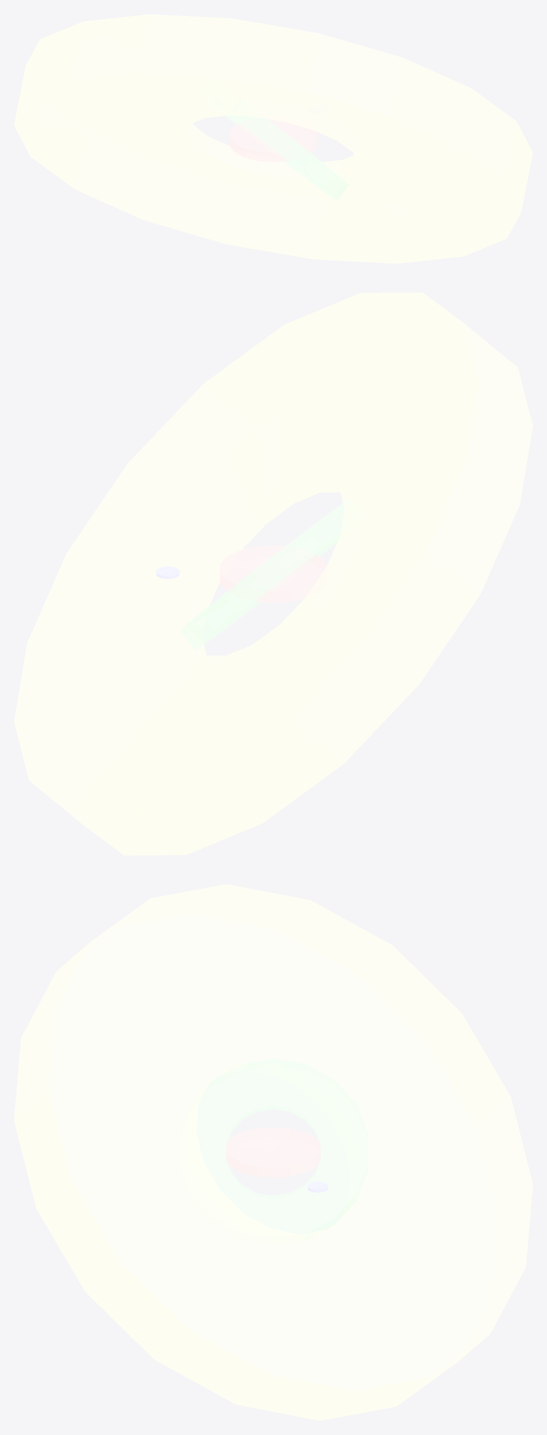
The picture shows the model from 3 angles, top to bottom: view 1: azimuth 30°, elevation 25°; view 2: azimuth 150°, elevation 25°; view 3: azimuth 270°, elevation 25°; orthographic projection. The views are drawn at different scales.
Visible parts, largest first — view 1: disk_3, disk_2, disk_1; view 2: disk_3, disk_2, disk_1; view 3: disk_3, disk_2, disk_1.
Part boxes in pixels (x1=…): disk_3: x1=14, y1=14, x2=532, y2=263; disk_2: x1=199, y1=78, x2=348, y2=200; disk_1: x1=230, y1=116, x2=316, y2=162; disk_3: x1=14, y1=292, x2=532, y2=855; disk_2: x1=180, y1=498, x2=365, y2=649; disk_1: x1=220, y1=545, x2=326, y2=602; disk_3: x1=14, y1=884, x2=532, y2=1420; disk_2: x1=179, y1=1058, x2=367, y2=1245; disk_1: x1=226, y1=1127, x2=320, y2=1177.
Bounding box in the file's own units: 215 × 185 × 215.
